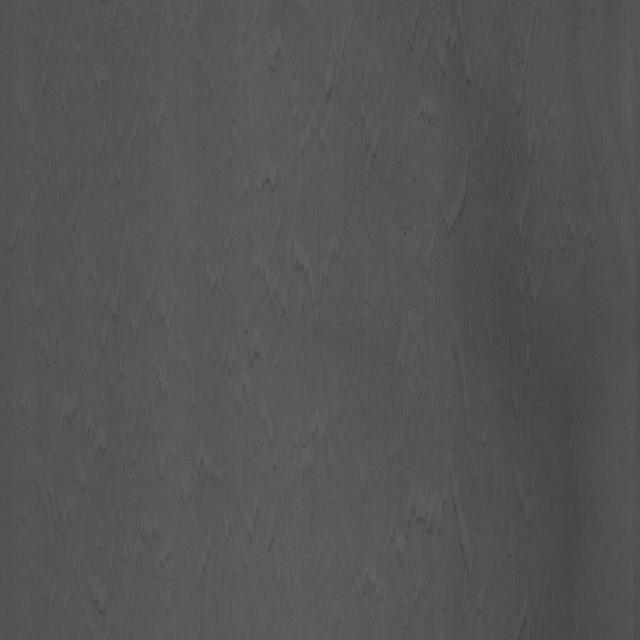inclusion: (233, 46, 485, 548)
